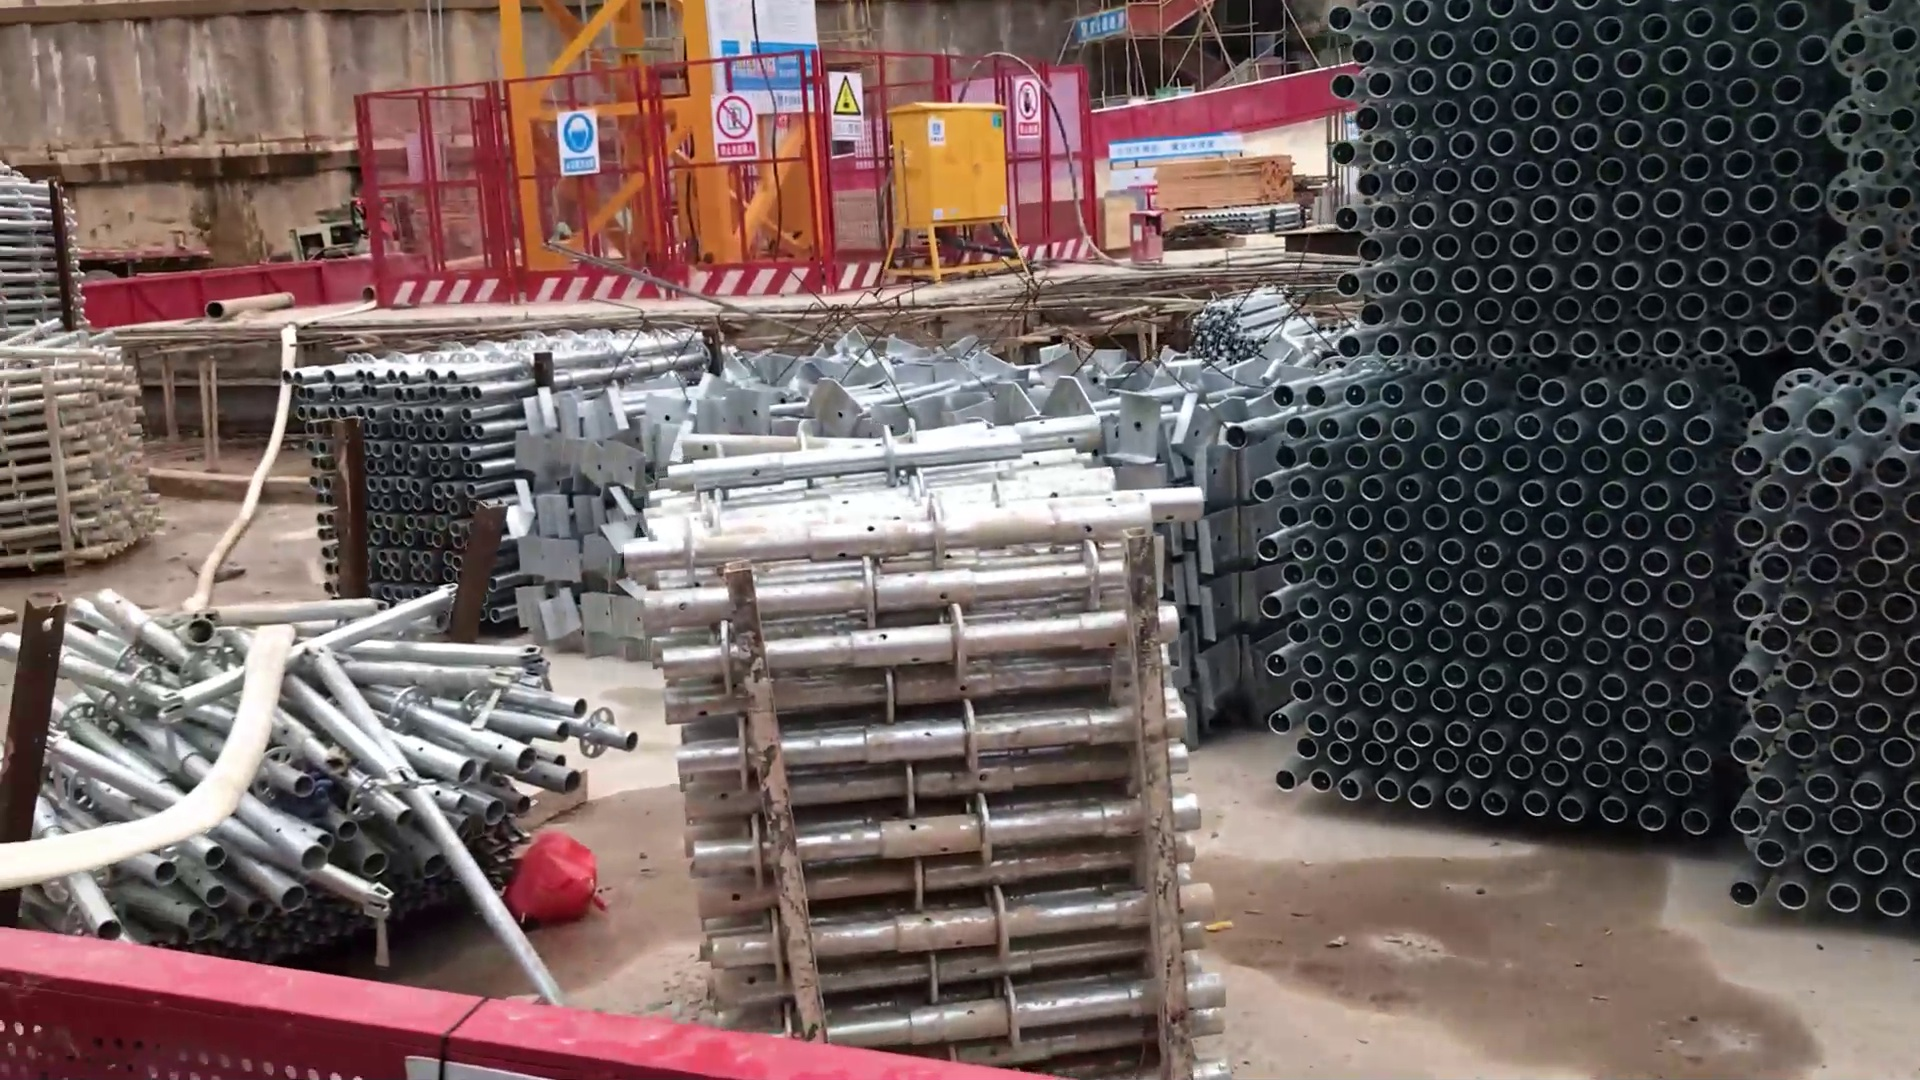ebox: (889, 98, 1033, 285)
fence: (11, 923, 632, 1080), (360, 84, 655, 291)
scaffold: (1280, 1, 1920, 907), (659, 434, 1261, 1073), (49, 629, 601, 931), (303, 342, 549, 618), (4, 167, 164, 575)
slogan: (707, 88, 773, 171), (1097, 135, 1255, 164), (555, 107, 611, 189), (825, 65, 872, 160), (1010, 75, 1048, 157), (1073, 8, 1127, 41)
wood: (1145, 153, 1300, 208)
